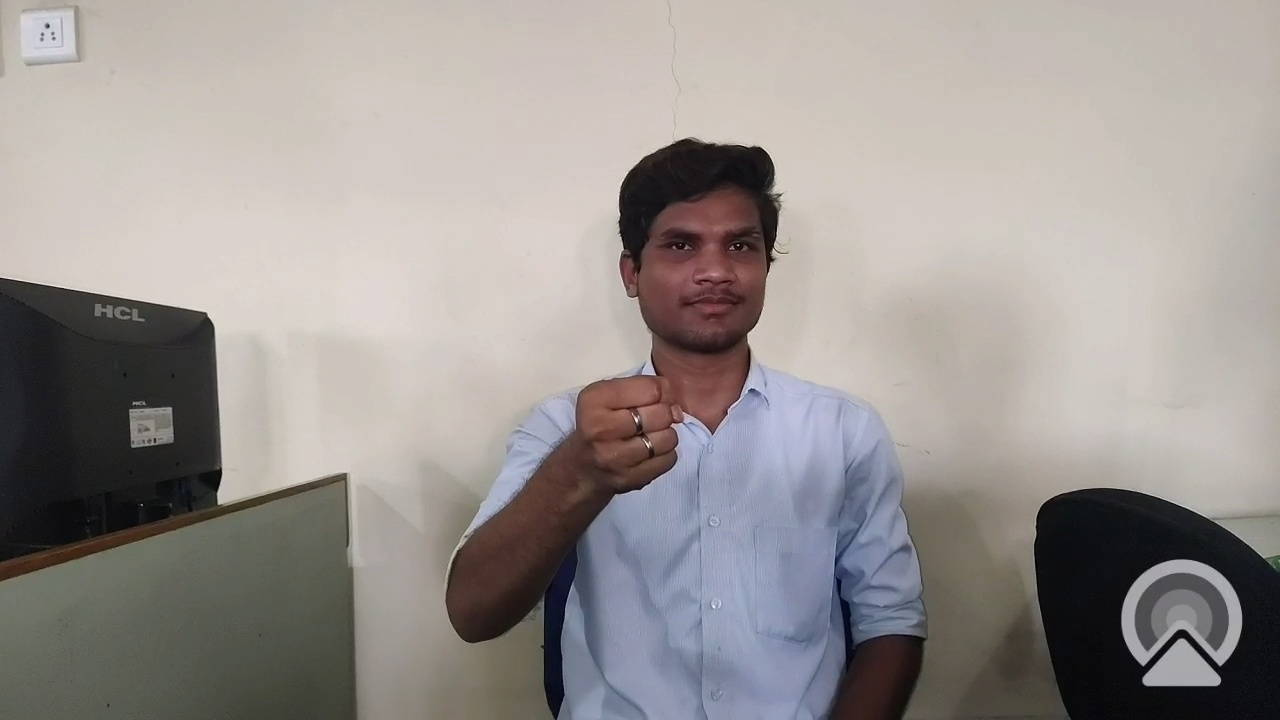Yes: (548, 348, 709, 538)
